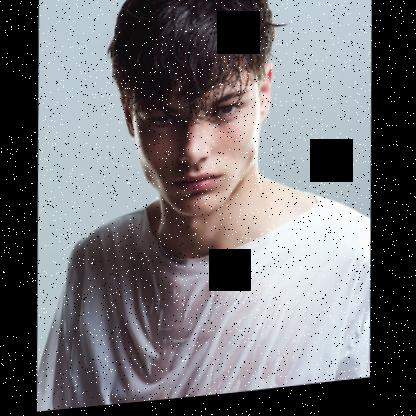Male: (118, 62, 272, 222)
